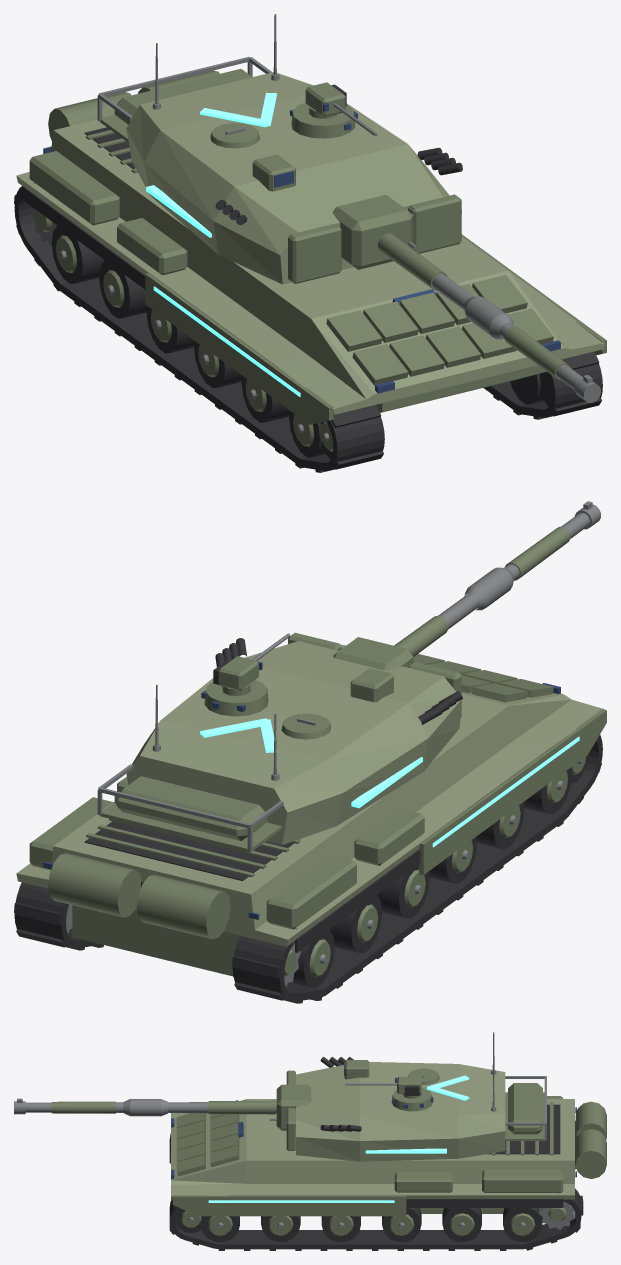
The model's file is mbt_blue.glb.
The picture shows the model from 3 angles, top to bottom: view 1: azimuth 30°, elevation 25°; view 2: azimuth 150°, elevation 25°; view 3: azimuth 270°, elevation 25°; orthographic projection. The views are drawn at different scales.
Parts seen in each view (by area): view 1: body, turret, gun; view 2: body, turret, gun; view 3: body, turret, gun.
Part boxes in pixels (x1,y1,x2,y2): body: [14, 70, 606, 472]; turret: [97, 14, 462, 284]; gun: [332, 195, 600, 402]; body: [14, 644, 606, 1003]; turret: [97, 632, 462, 852]; gun: [333, 501, 600, 670]; body: [169, 1096, 606, 1250]; turret: [286, 1032, 546, 1161]; gun: [14, 1084, 311, 1130].
Size of the model in its own units: 3.54 by 3.02 by 10.2.
